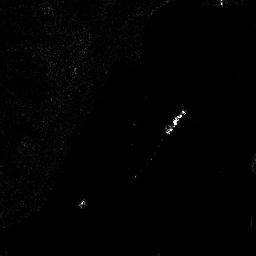ship: (164, 109, 186, 133)
